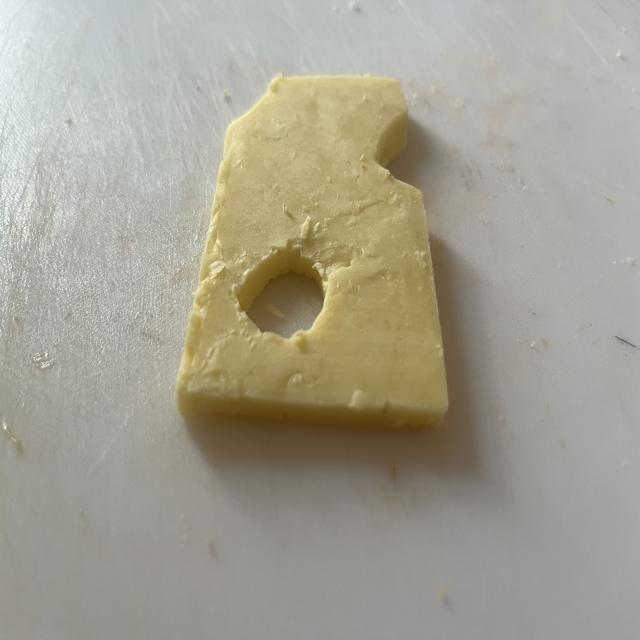cheese: (177, 76, 448, 427)
